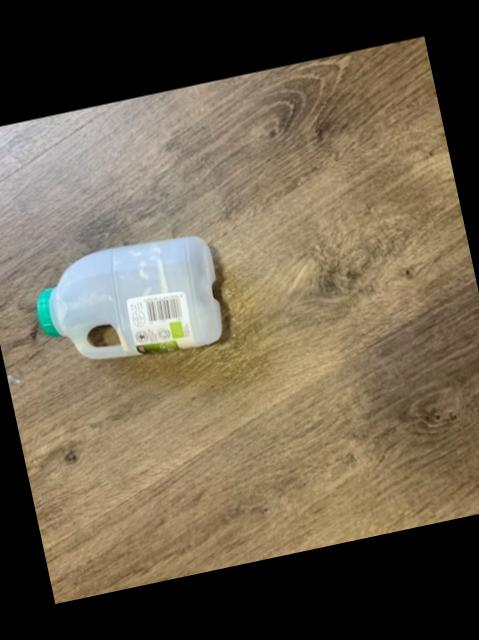plastic: (34, 238, 219, 361)
